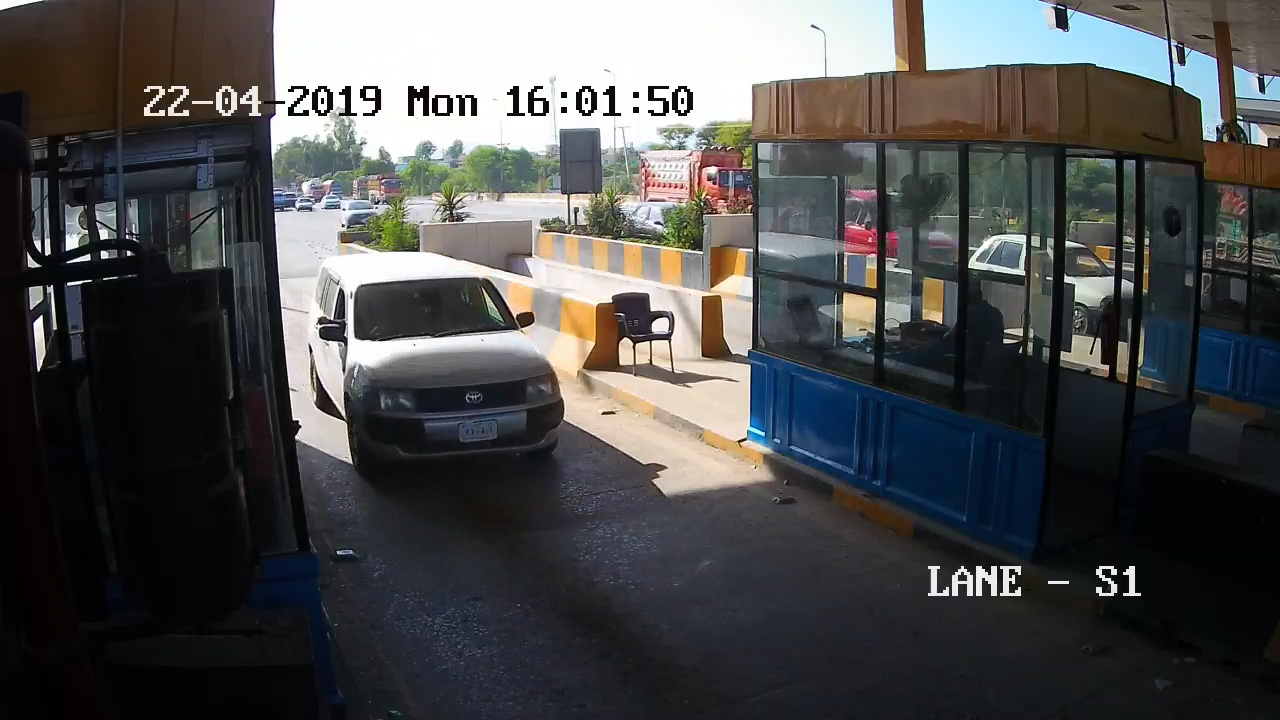car: (293, 237, 586, 491)
